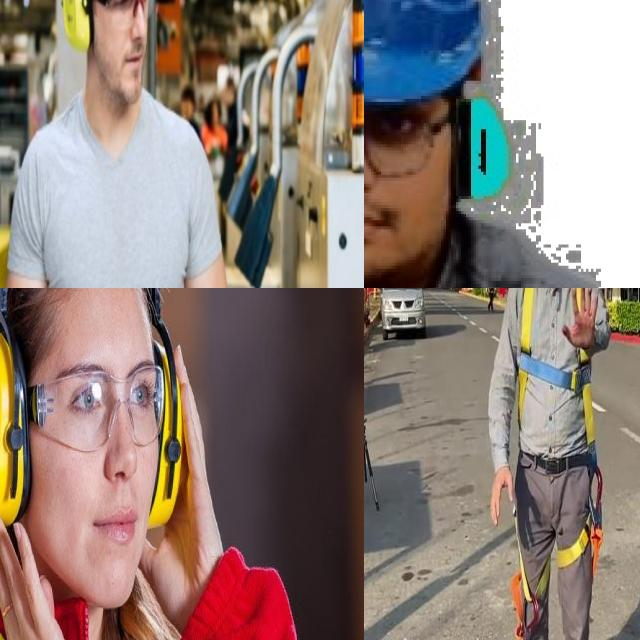Ear-protection: (0, 288, 191, 569), (364, 76, 538, 211), (60, 0, 157, 111)
Harness: (519, 288, 604, 574)
glasses: (19, 358, 170, 461)
head_helmet: (364, 0, 498, 105)
person: (1, 0, 236, 288)
